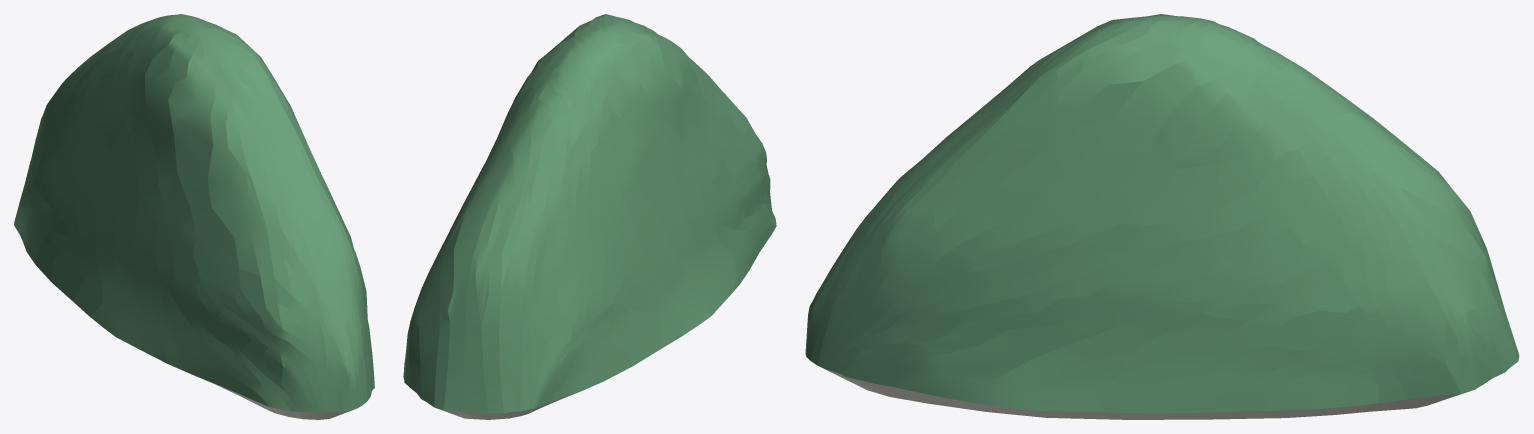
The model's file is island_asian_F.fbx.
The picture shows the model from 3 angles, left to right: view 1: azimuth 30°, elevation 25°; view 2: azimuth 150°, elevation 25°; view 3: azimuth 270°, elevation 25°; orthographic projection. The views are drawn at different scales.
Parts seen in each view (by area): view 1: island_asian_F; view 2: island_asian_F; view 3: island_asian_F.
Boxes of the visible parts, <box> form: island_asian_F: <box>14,14,374,419</box>; island_asian_F: <box>403,14,776,419</box>; island_asian_F: <box>805,14,1519,419</box>.
Size of the model in its own units: 1390 by 1964 by 3517.
